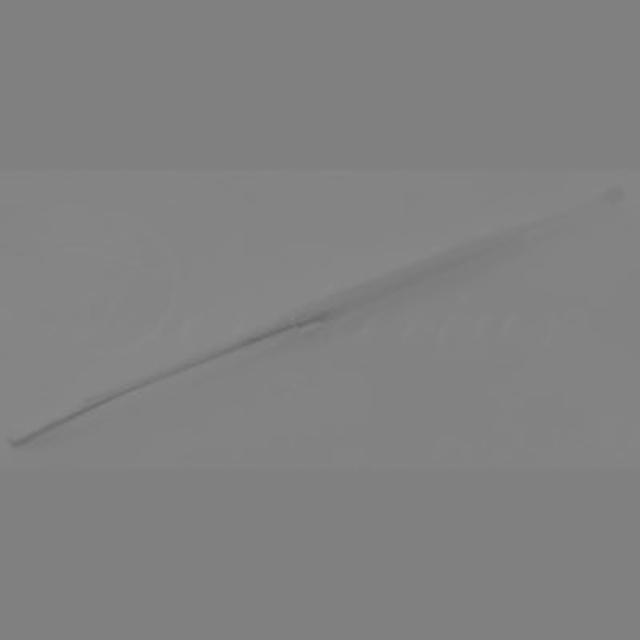elevador: (12, 185, 624, 450)
